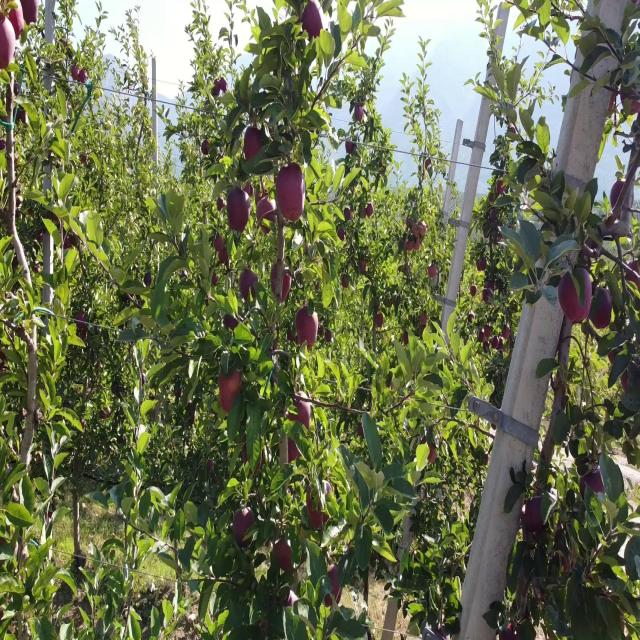apple: (560, 270, 593, 325), (276, 163, 305, 220), (308, 483, 335, 526), (220, 369, 244, 412), (228, 191, 251, 235), (308, 490, 332, 532), (592, 291, 613, 332), (296, 305, 320, 338), (524, 497, 544, 535), (244, 127, 264, 164), (304, 7, 324, 43), (288, 398, 312, 428), (324, 568, 342, 608), (272, 270, 292, 306), (240, 270, 259, 304), (236, 511, 255, 544), (308, 504, 328, 532), (8, 7, 24, 41), (276, 540, 292, 574), (624, 263, 640, 297), (584, 469, 604, 496), (256, 191, 273, 220), (24, 0, 40, 28), (604, 291, 614, 329), (4, 21, 15, 55), (216, 234, 228, 263), (560, 554, 576, 574), (288, 440, 300, 462), (244, 177, 255, 201), (284, 590, 297, 610), (216, 78, 228, 98), (300, 334, 316, 348), (224, 319, 238, 334), (4, 49, 13, 71), (208, 469, 219, 484), (364, 206, 375, 220), (72, 63, 80, 82), (420, 312, 428, 331), (264, 220, 274, 235), (376, 312, 384, 329), (356, 106, 364, 123), (428, 447, 436, 462), (80, 71, 88, 85), (428, 263, 436, 277), (348, 142, 356, 156), (360, 263, 368, 277), (212, 277, 220, 290), (412, 222, 419, 235), (420, 227, 428, 238), (220, 199, 226, 212), (20, 113, 27, 123), (408, 220, 414, 231), (404, 334, 408, 348), (408, 241, 413, 252), (416, 241, 421, 249), (84, 156, 88, 164)
